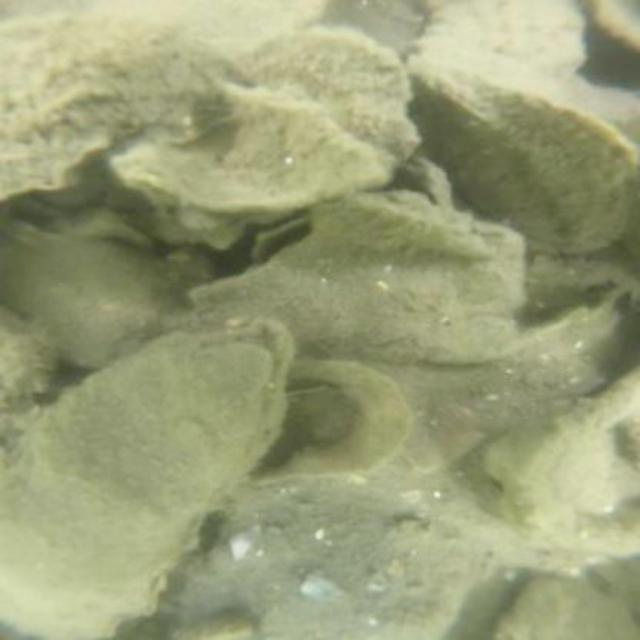Oyster-Closed: (0, 318, 300, 628), (186, 194, 522, 364), (175, 481, 500, 636), (113, 86, 403, 255), (408, 31, 629, 248), (4, 8, 232, 188), (243, 24, 417, 166), (231, 351, 415, 484), (6, 226, 169, 363), (417, 0, 597, 88), (296, 192, 497, 262), (88, 1, 321, 49), (500, 574, 634, 620), (585, 0, 638, 75)
